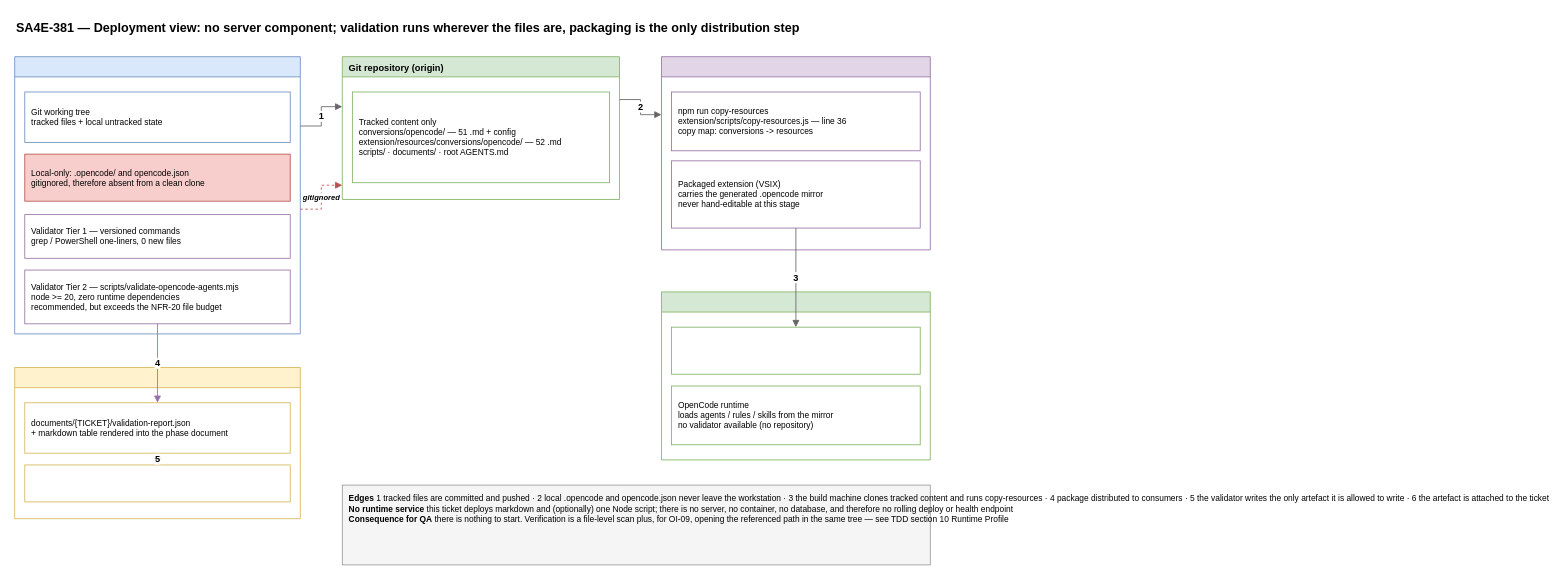
Image size: 1564x580. Some labels were removed from this diagram. The shapes that lost their labels are listed below. From the top down, each one's box as (x1, y1, x2, y2) in pixels, then its label:
(661, 56, 930, 250): Build / packaging
(14, 56, 300, 334): Developer workstation (Windows / macOS)
(671, 326, 920, 374): Installed extension resources extracted, read-only
(661, 291, 930, 460): Consumer workstation (installed extension)
(14, 367, 300, 519): Evidence artefact
(24, 464, 290, 502): Jira attachment on the ticket
